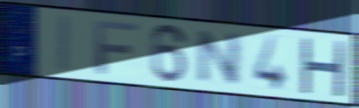4: (252, 33, 291, 93)
6: (149, 23, 187, 84)
F: (93, 19, 141, 77)
H: (298, 36, 347, 99)
I: (57, 14, 73, 74)
N: (195, 28, 245, 87)
